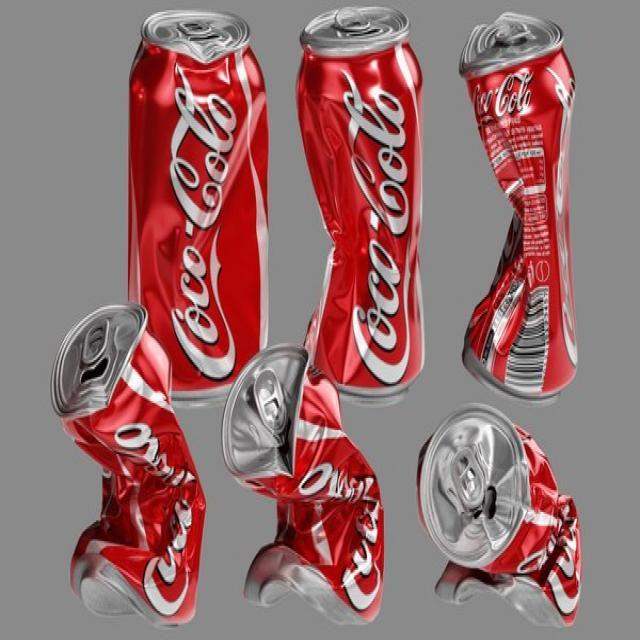non-organic waste: (282, 0, 442, 410), (122, 9, 281, 408), (221, 270, 397, 630), (45, 284, 206, 634), (449, 13, 587, 416), (414, 386, 598, 626)
